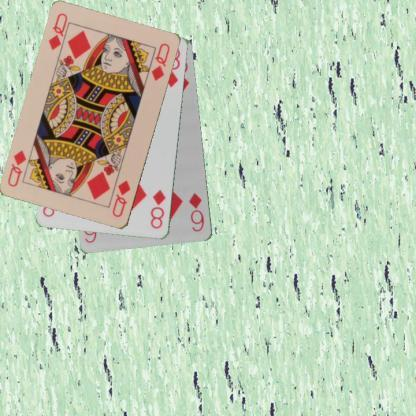6d: (186, 190, 206, 234)
8d: (148, 187, 167, 230)
Qd: (46, 11, 72, 57), (110, 177, 132, 219)
